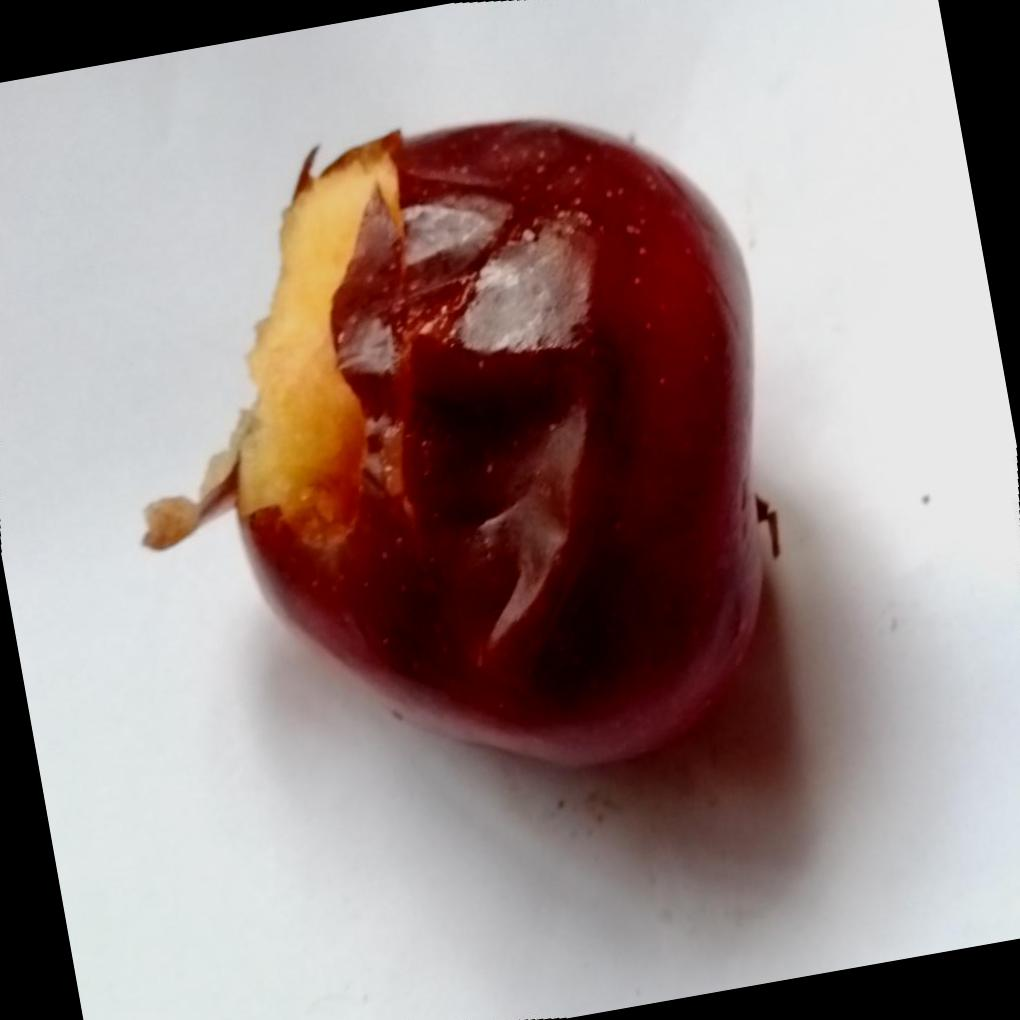FreshOrange: (140, 119, 774, 770)
